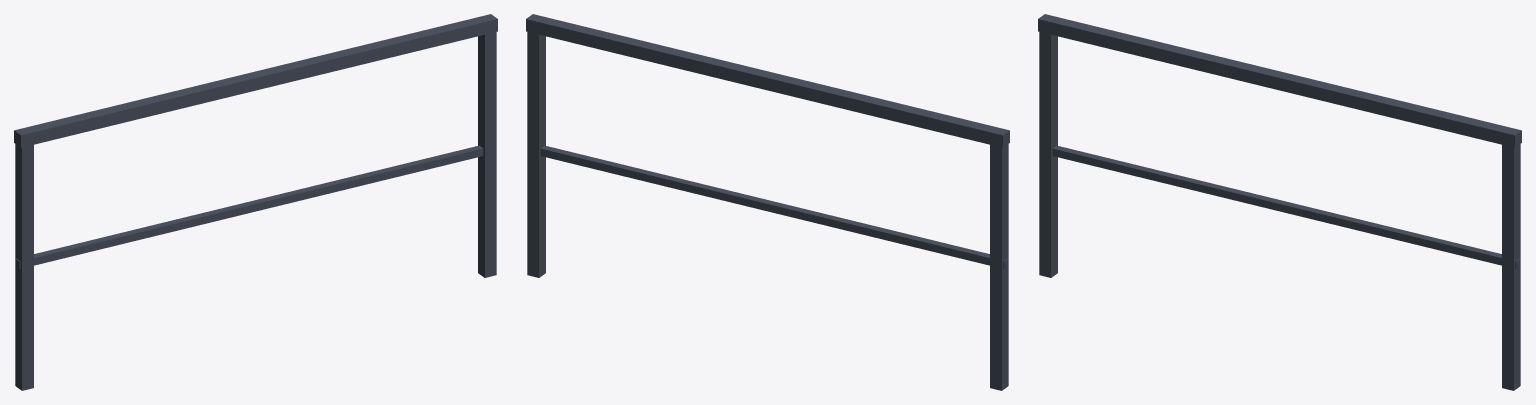
The model's file is railing_metal_2m.glb.
3 renders of one model, left to right at view 1: azimuth 30°, elevation 25°; view 2: azimuth 150°, elevation 25°; view 3: azimuth 330°, elevation 25°, orthographic.
Visible parts, largest first — view 1: railing_metal_2m; view 2: railing_metal_2m; view 3: railing_metal_2m.
Boxes of the visible parts, x1=… form: railing_metal_2m: x1=14, y1=14, x2=497, y2=390; railing_metal_2m: x1=526, y1=14, x2=1009, y2=390; railing_metal_2m: x1=1038, y1=14, x2=1521, y2=390.
Bounding box in the file's own units: 2 × 1.02 × 0.05.
